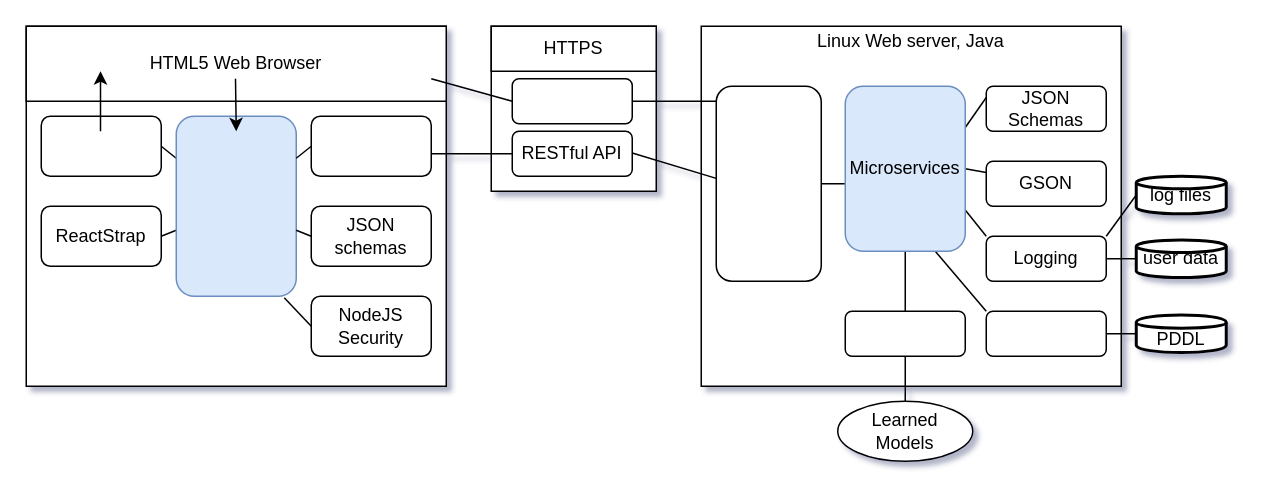
Some shapes in this 1263 by 497 pixel diagram are drawn without their labels. Here are the shapes that lost their labels. From the top down, the box of each, then its label:
(511, 77, 632, 124): HTML/JS files
(40, 115, 161, 176): ReactJS
(310, 115, 431, 176): fetch (async)
(715, 85, 821, 281): Java Spark
(175, 115, 296, 296): JavaScript Single Page Application
(844, 310, 965, 356): Classifier
(985, 310, 1106, 356): Automated Planner
